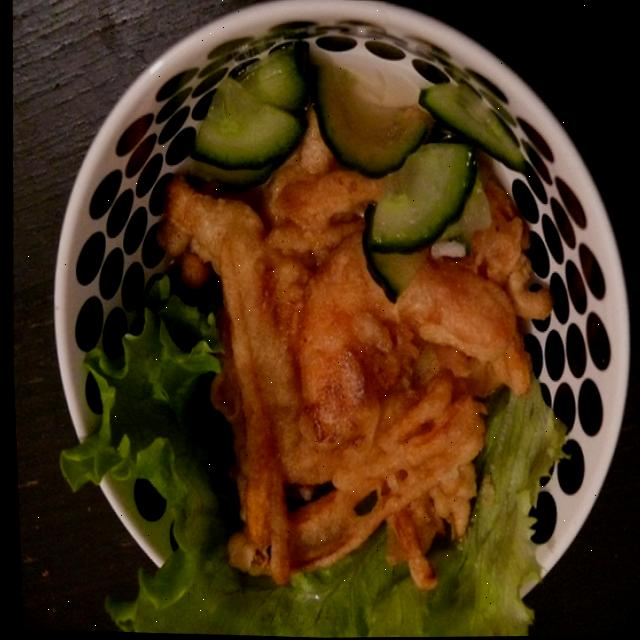炸货点心: (27, 5, 640, 628)
熟制海鲜: (27, 5, 640, 628)
